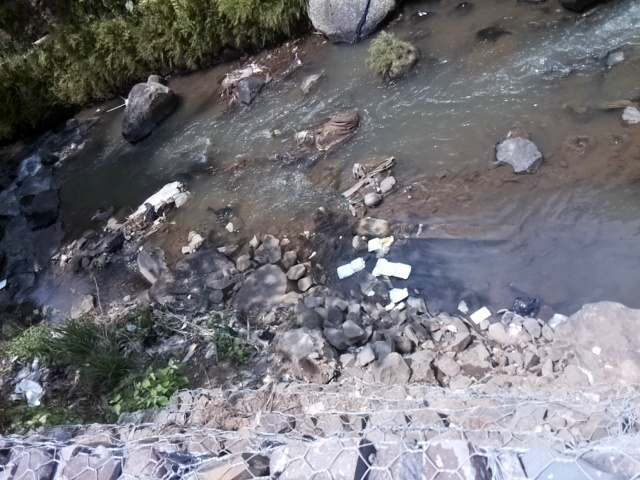Sampah_Plastik: (125, 177, 182, 227), (509, 296, 541, 316)
Sampah_Styrofoam: (371, 255, 411, 282), (334, 254, 368, 281), (471, 304, 491, 324), (389, 284, 408, 304), (365, 235, 386, 253)
